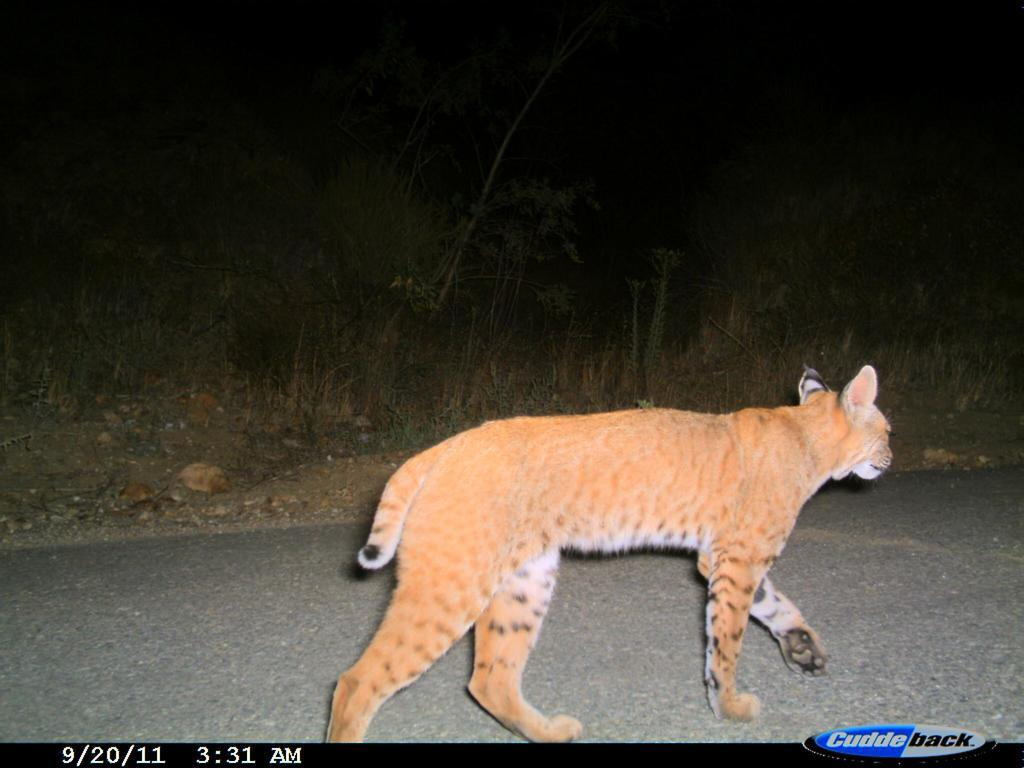bobcat: (328, 361, 914, 745)
